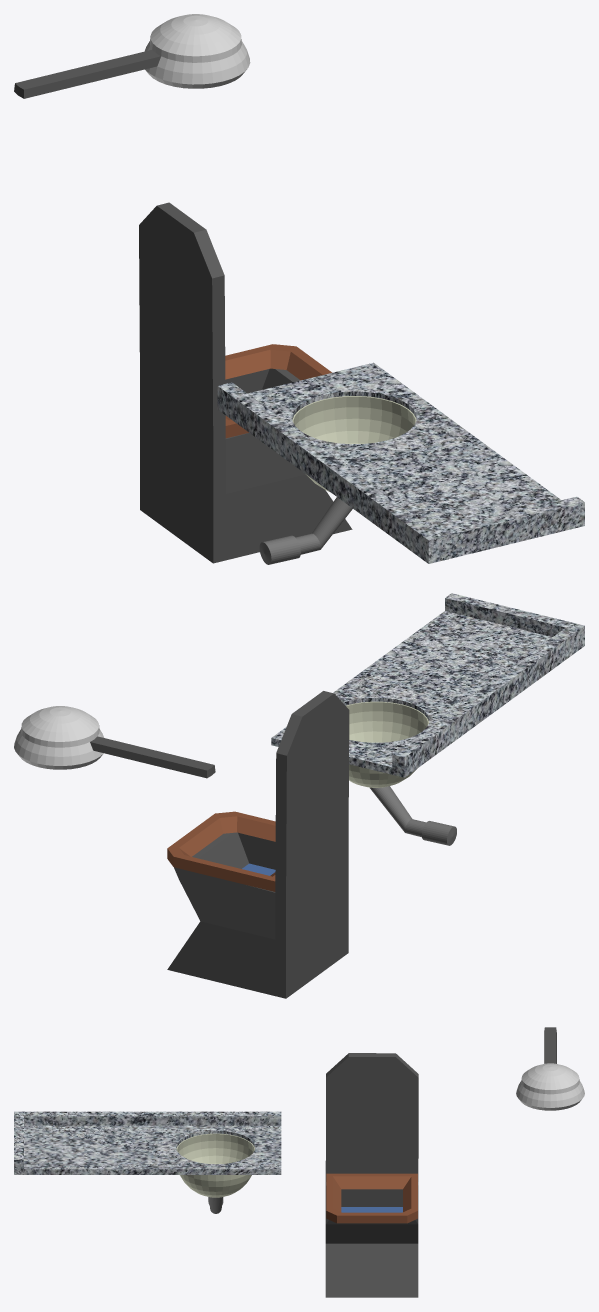
File: Banheiro.fbx
The picture shows the model from 3 angles, top to bottom: view 1: azimuth 30°, elevation 25°; view 2: azimuth 150°, elevation 25°; view 3: azimuth 270°, elevation 25°; orthographic projection. The views are drawn at different scales.
Parts seen in each view (by area): view 1: Privada, Pia_Marmore, Chuveiro, Pia_Cano, Privada_assento; view 2: Privada, Pia_Marmore, Chuveiro, Pia_Cano, Privada_assento; view 3: Privada, Pia_Marmore, Pia_Cano, Privada_assento, Chuveiro, Agua.
Boxes of the visible parts, x1=… form: Privada: x1=139, y1=202, x2=352, y2=563; Pia_Marmore: x1=217, y1=362, x2=584, y2=563; Chuveiro: x1=14, y1=14, x2=250, y2=98; Pia_Cano: x1=259, y1=396, x2=416, y2=564; Privada_assento: x1=225, y1=344, x2=331, y2=438; Privada: x1=167, y1=691, x2=349, y2=998; Pia_Marmore: x1=271, y1=593, x2=584, y2=777; Chuveiro: x1=14, y1=706, x2=215, y2=778; Pia_Cano: x1=346, y1=701, x2=456, y2=845; Privada_assento: x1=167, y1=811, x2=275, y2=891; Privada: x1=325, y1=1053, x2=418, y2=1297; Pia_Marmore: x1=14, y1=1111, x2=281, y2=1174; Pia_Cano: x1=176, y1=1133, x2=254, y2=1213; Privada_assento: x1=326, y1=1173, x2=417, y2=1223; Chuveiro: x1=516, y1=1027, x2=584, y2=1110; Agua: x1=341, y1=1207, x2=402, y2=1212.
Size of the model in its own units: 57.43 by 84.63 by 185.
